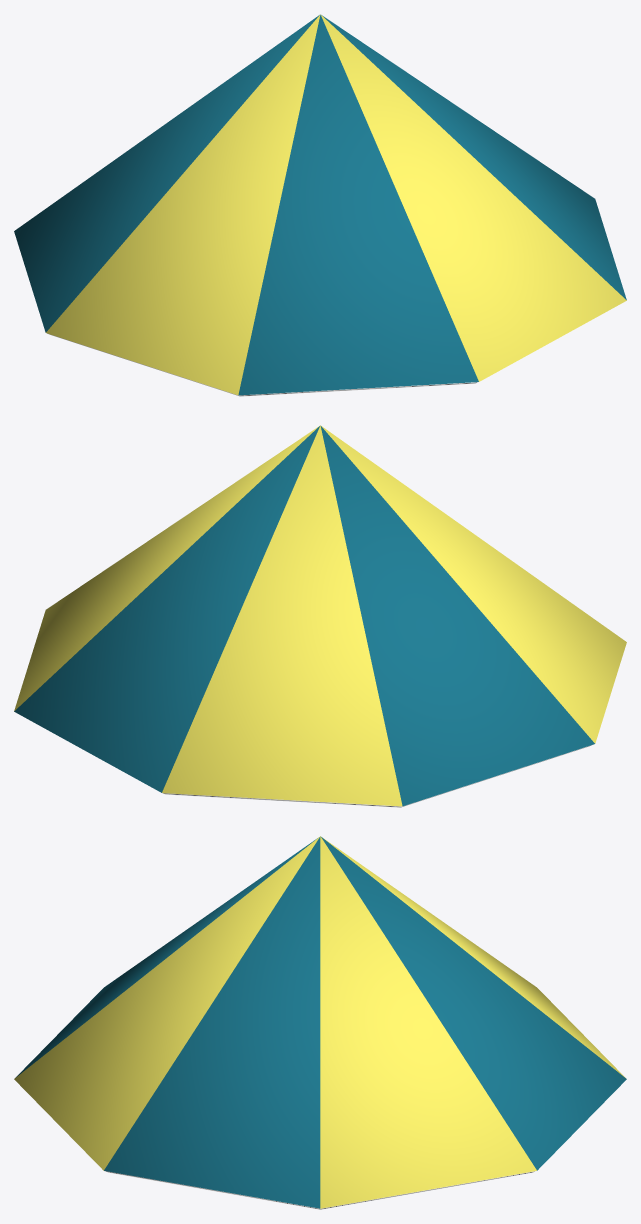
The model's file is SM_Ketchup.fbx.
The picture shows the model from 3 angles, top to bottom: view 1: azimuth 30°, elevation 25°; view 2: azimuth 150°, elevation 25°; view 3: azimuth 270°, elevation 25°; orthographic projection. The views are drawn at different scales.
Visible parts, largest first — view 1: SM_Ketchup; view 2: SM_Ketchup; view 3: SM_Ketchup.
Part boxes in pixels (x1,y1,x2,y2): SM_Ketchup: (14, 14, 626, 396); SM_Ketchup: (14, 425, 626, 807); SM_Ketchup: (14, 836, 626, 1209).
Bounding box in the file's own units: 10.03 × 10.03 × 4.47.
Materials: 1 (1 with a texture image).
